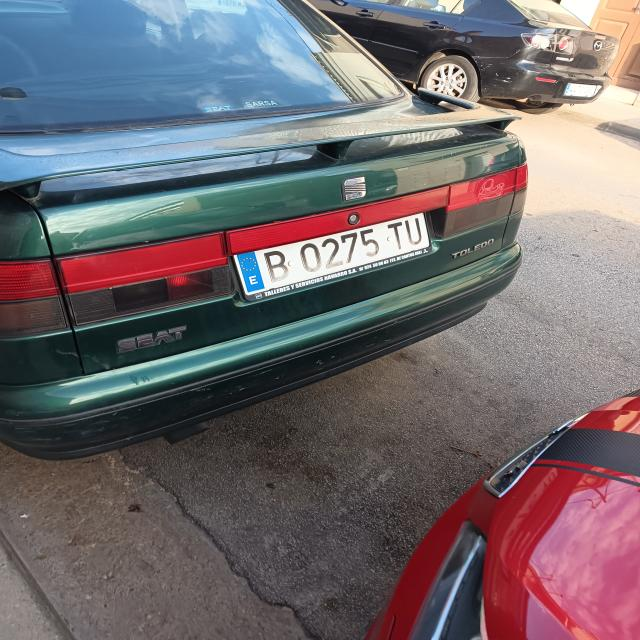license_plate-34Td: (234, 213, 430, 299)
